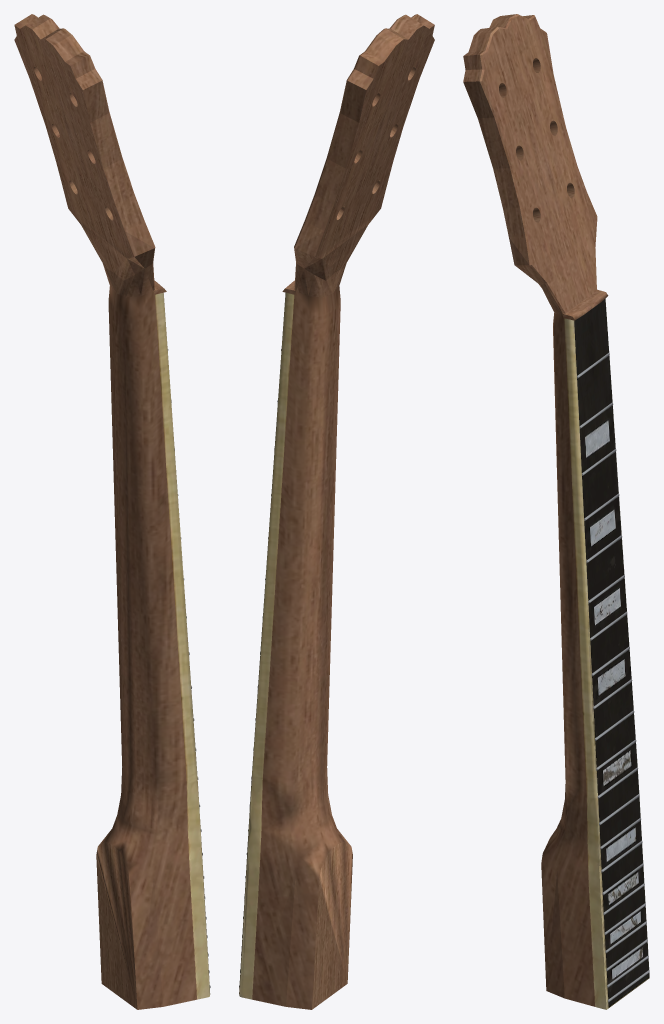
File: gibson_lespaul_NeckL.min.glb
3 renders of one model, left to right at view 1: azimuth 30°, elevation 25°; view 2: azimuth 150°, elevation 25°; view 3: azimuth 330°, elevation 25°, orthographic. The views are drawn at different scales.
Size of the model in its own units: 0.4784 by 3 by 0.3883.
2 materials, 2 textured.
